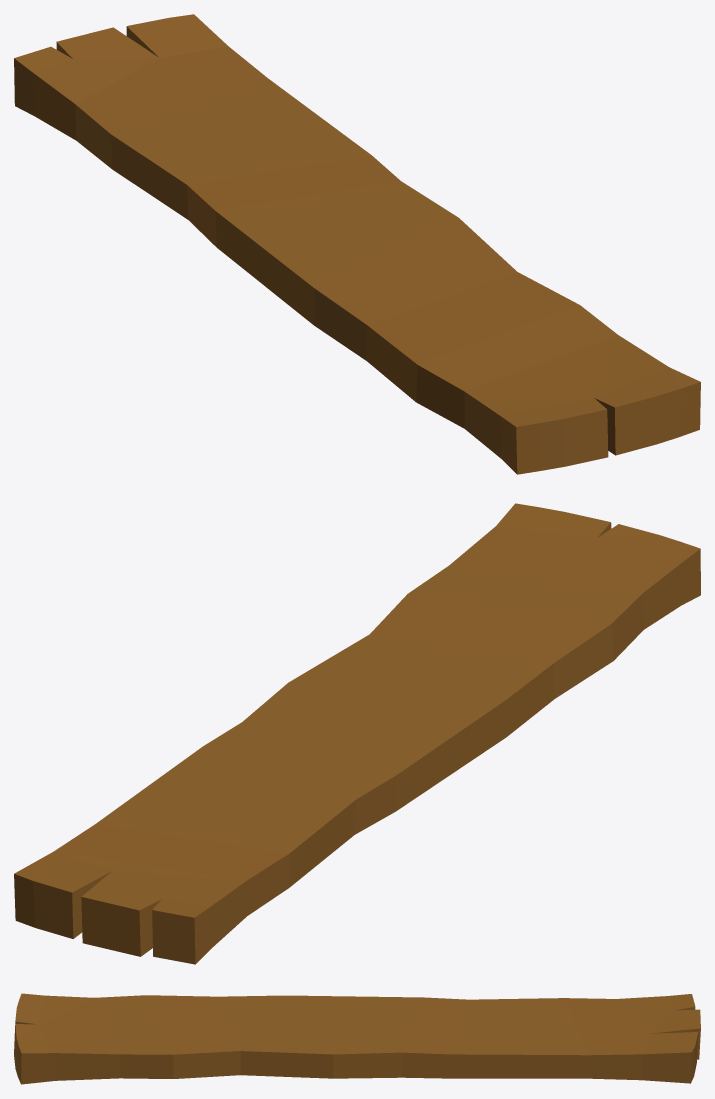
File: plank_1.fbx
3 views of the same model, one above another, from view 1: azimuth 30°, elevation 25°; view 2: azimuth 150°, elevation 25°; view 3: azimuth 270°, elevation 25° (orthographic). The views are drawn at different scales.
Visible parts, largest first — view 1: Cube.002; view 2: Cube.002; view 3: Cube.002.
Boxes of the visible parts, x1,y1,x2,y2 form: Cube.002: (14,14,700,474); Cube.002: (14,503,700,964); Cube.002: (14,993,700,1084).
Bounding box in the file's own units: 46.02 × 10.86 × 215.
